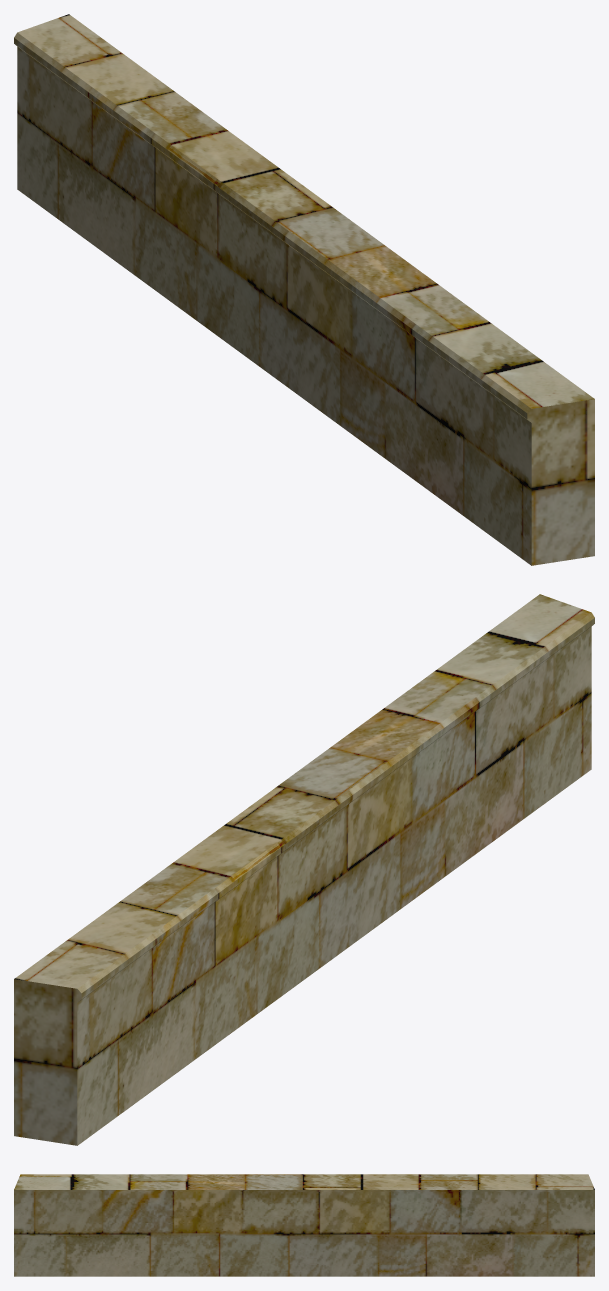
Rendered from Inner Wall 4.obj.
The picture shows the model from 3 angles, top to bottom: view 1: azimuth 30°, elevation 25°; view 2: azimuth 150°, elevation 25°; view 3: azimuth 270°, elevation 25°; orthographic projection. The views are drawn at different scales.
Visible parts, largest first — view 1: Inner_Walll_04; view 2: Inner_Walll_04; view 3: Inner_Walll_04.
Part boxes in pixels (x1,y1,x2,y2): Inner_Walll_04: (14, 14, 594, 565); Inner_Walll_04: (14, 594, 594, 1145); Inner_Walll_04: (14, 1174, 594, 1276).
Size of the model in its own units: 7969 by 19502 by 118366.
